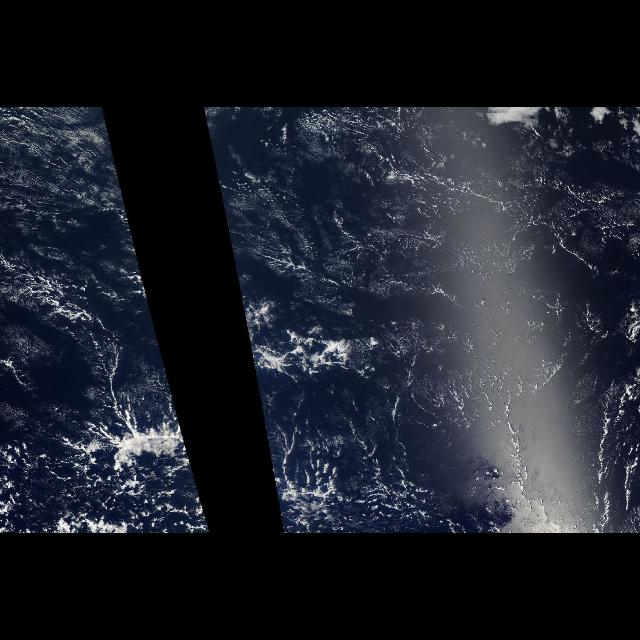Fish: (7, 248, 104, 350)
Gravel: (8, 111, 162, 389)
Sugar: (248, 118, 636, 346), (5, 111, 131, 227)
